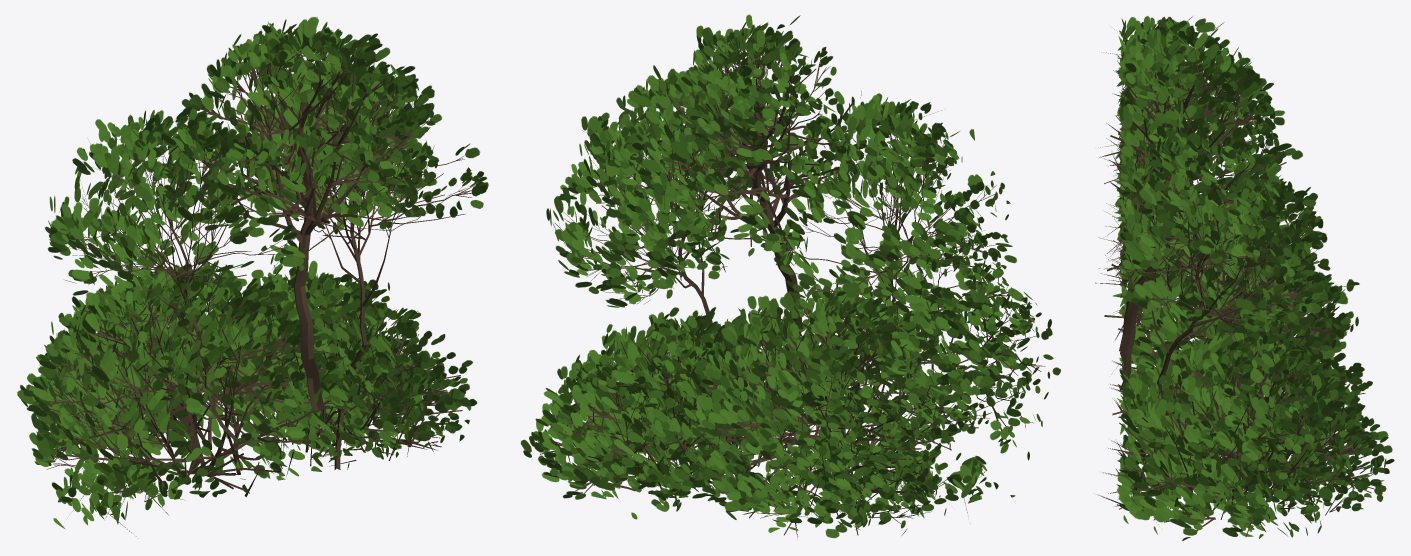
The picture shows the model from 3 angles, left to right: view 1: azimuth 30°, elevation 25°; view 2: azimuth 150°, elevation 25°; view 3: azimuth 270°, elevation 25°; orthographic projection. The views are drawn at different scales.
Visible parts, largest first — view 1: oak 01.001_trunk_Mat.001_0.292; view 2: oak 01.001_trunk_Mat.001_0.292; view 3: oak 01.001_trunk_Mat.001_0.292.
Part boxes in pixels (box(x1,y1,x2,y2)): oak 01.001_trunk_Mat.001_0.292: box(17, 17, 488, 536); oak 01.001_trunk_Mat.001_0.292: box(520, 14, 1060, 538); oak 01.001_trunk_Mat.001_0.292: box(1095, 16, 1394, 540).
Bounding box in the file's own units: 4.76 × 4.42 × 2.72.
2 materials, 1 textured.
